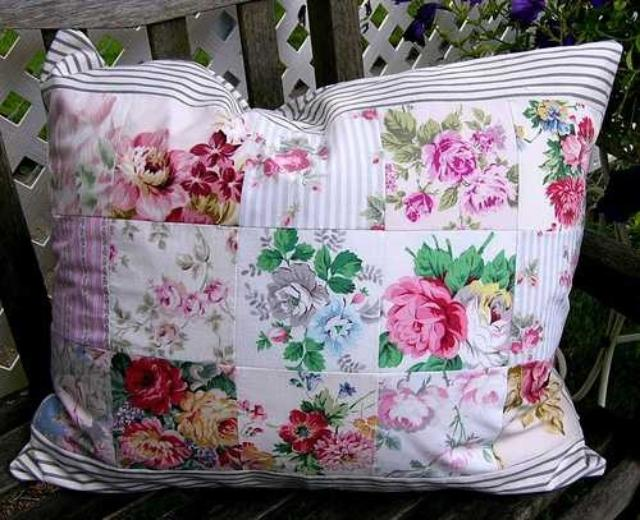pillow: (32, 34, 622, 492)
